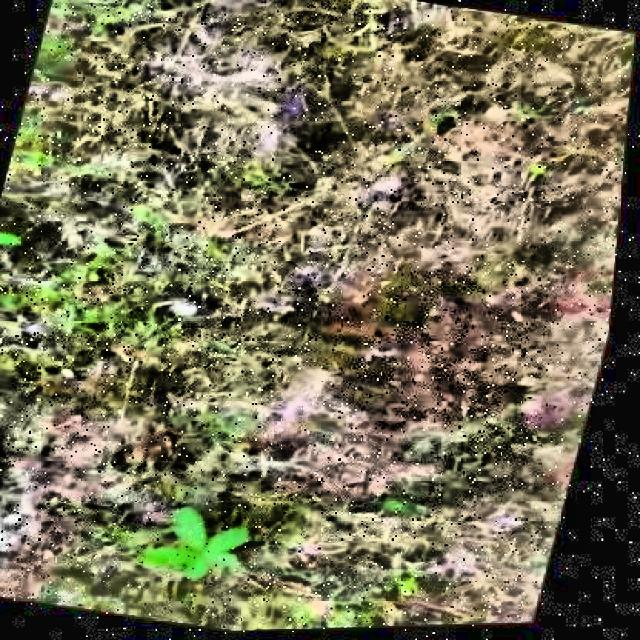Weeds: (149, 499, 271, 590)
